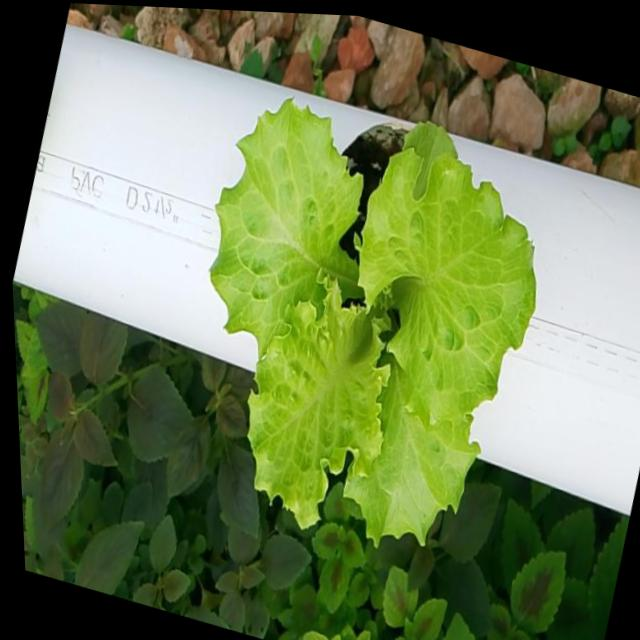Baby: (208, 109, 531, 551)
